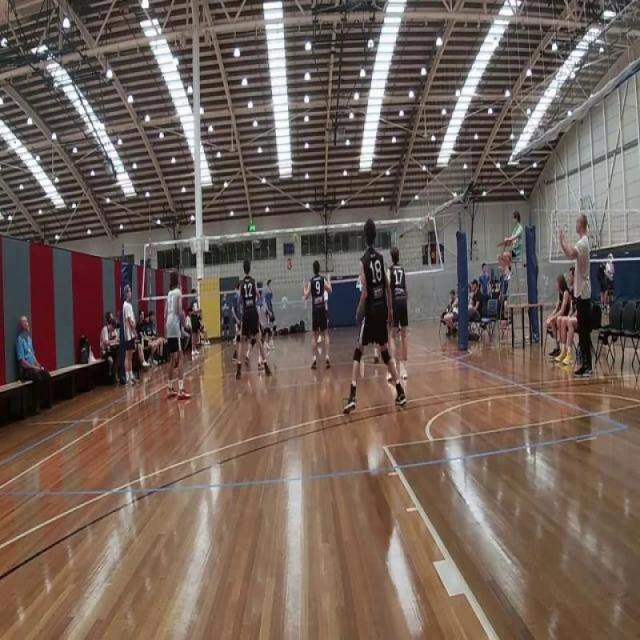volleyball: (290, 230, 298, 243)
